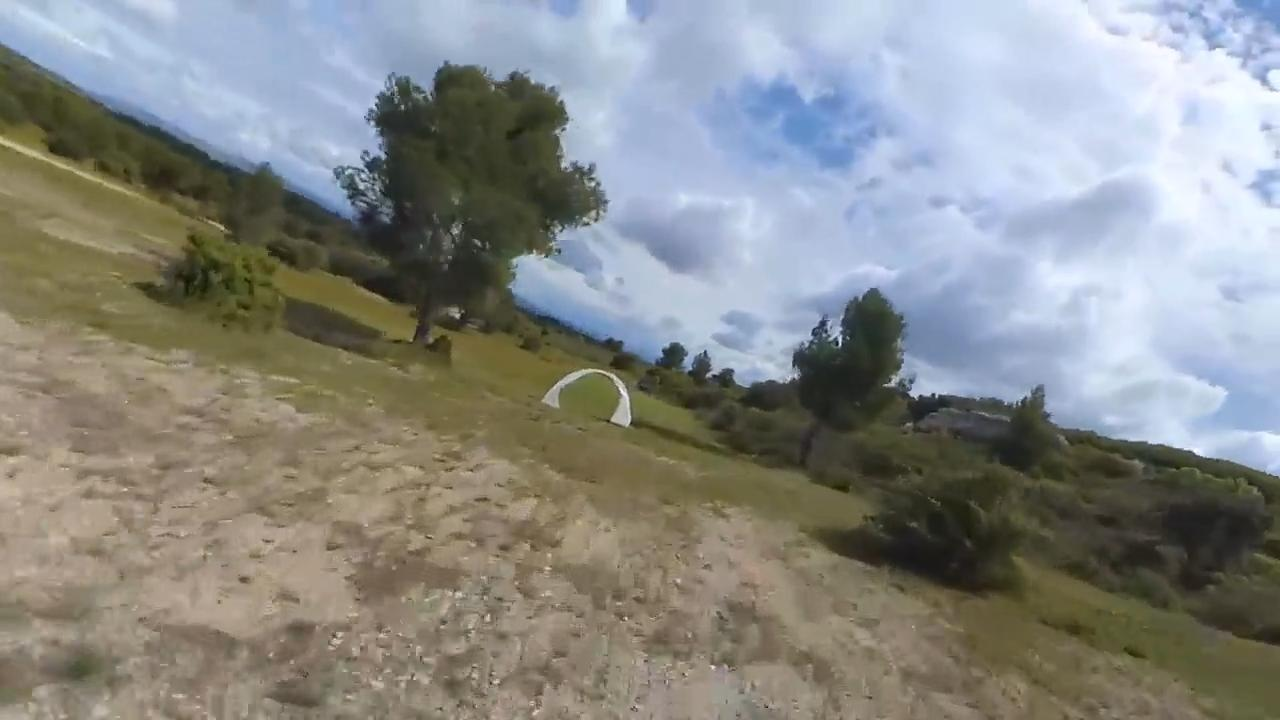gate: (541, 366, 632, 428)
